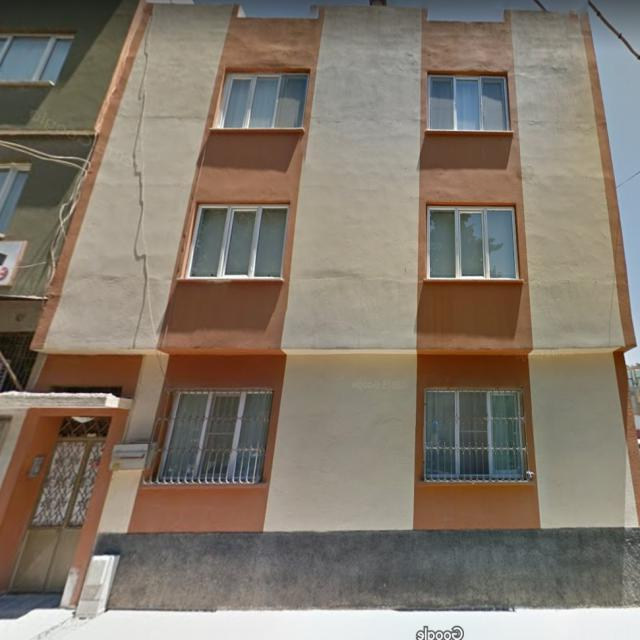Building: (0, 4, 640, 609)
